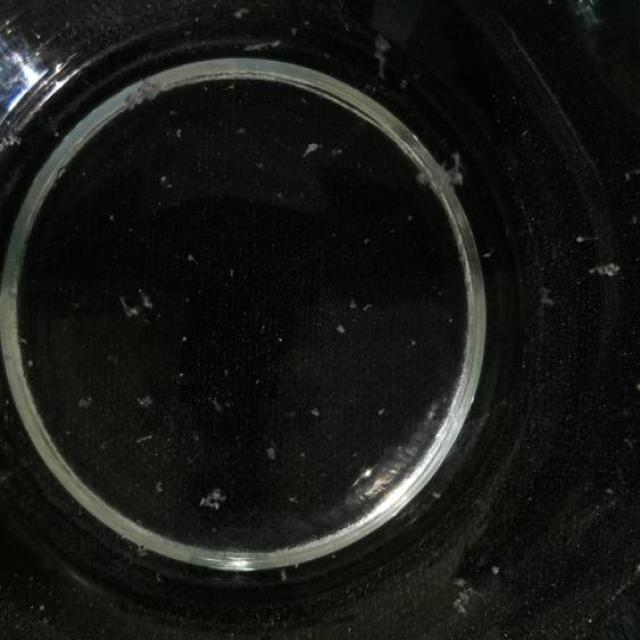fiber: (409, 146, 462, 194), (241, 30, 288, 58), (108, 288, 139, 328), (579, 255, 623, 280), (372, 34, 393, 78), (195, 485, 224, 514), (300, 136, 323, 166), (139, 285, 158, 317), (76, 388, 101, 412), (260, 441, 282, 467), (131, 387, 151, 415), (0, 132, 24, 155), (307, 400, 325, 426), (334, 321, 349, 342), (346, 297, 362, 310)
